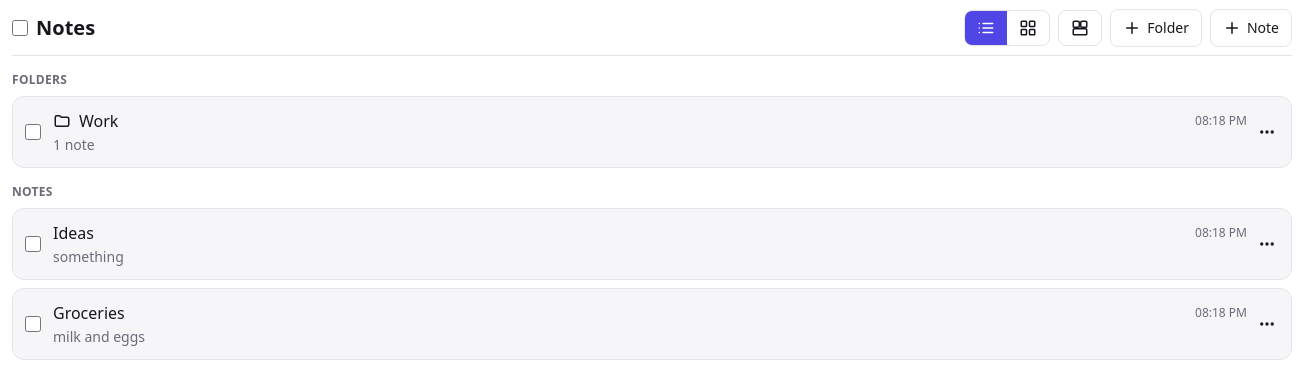
Test case: Library on desktop › keeps Rename in place but greyed out unless exactly one item is selected
The width and height of the screenshot is (1304, 378).
Click the checkbox named "Select Groceries". click: (33, 324)
box: [25, 316, 41, 332]
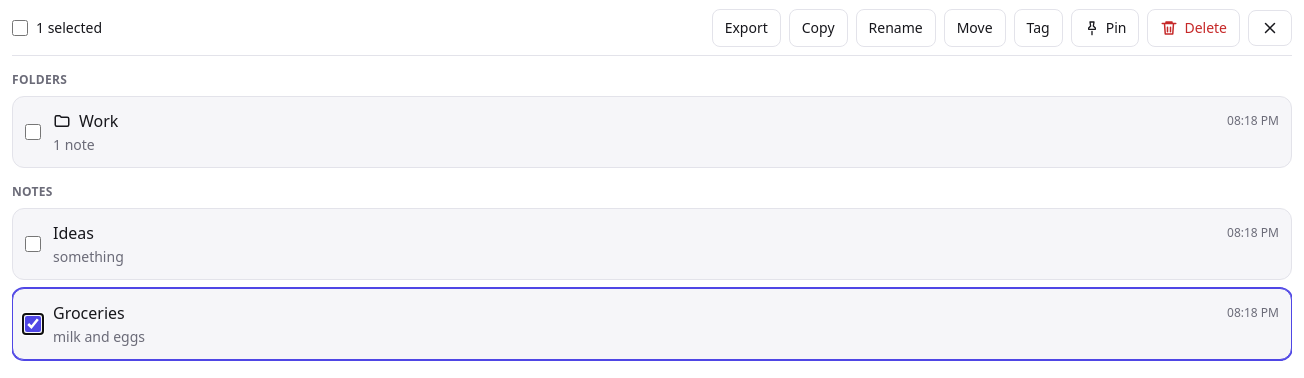
Check: the button "Rename" is enabled, box [856, 8, 936, 46]
Click the checkbox named "Select Ideas". click: (33, 244)
box: [25, 236, 41, 252]
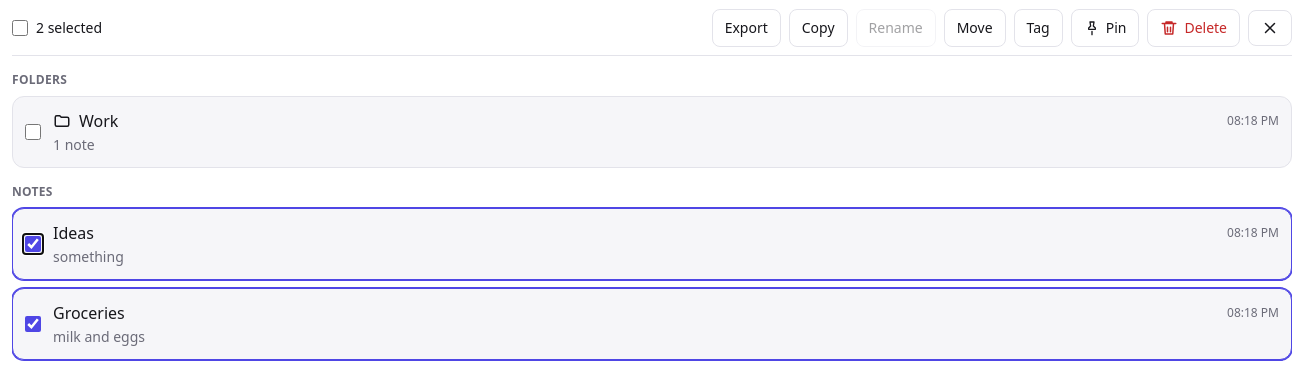
Check: the button "Rename" is disabled, box [856, 8, 936, 46]
